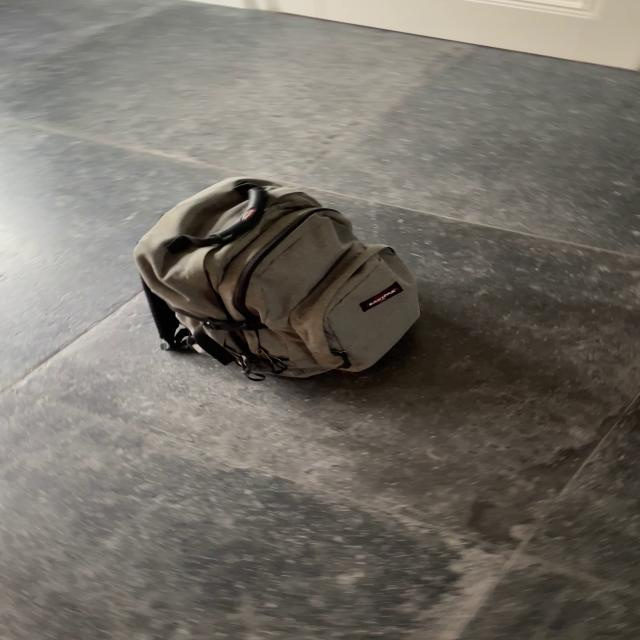backpack: (120, 172, 428, 386)
